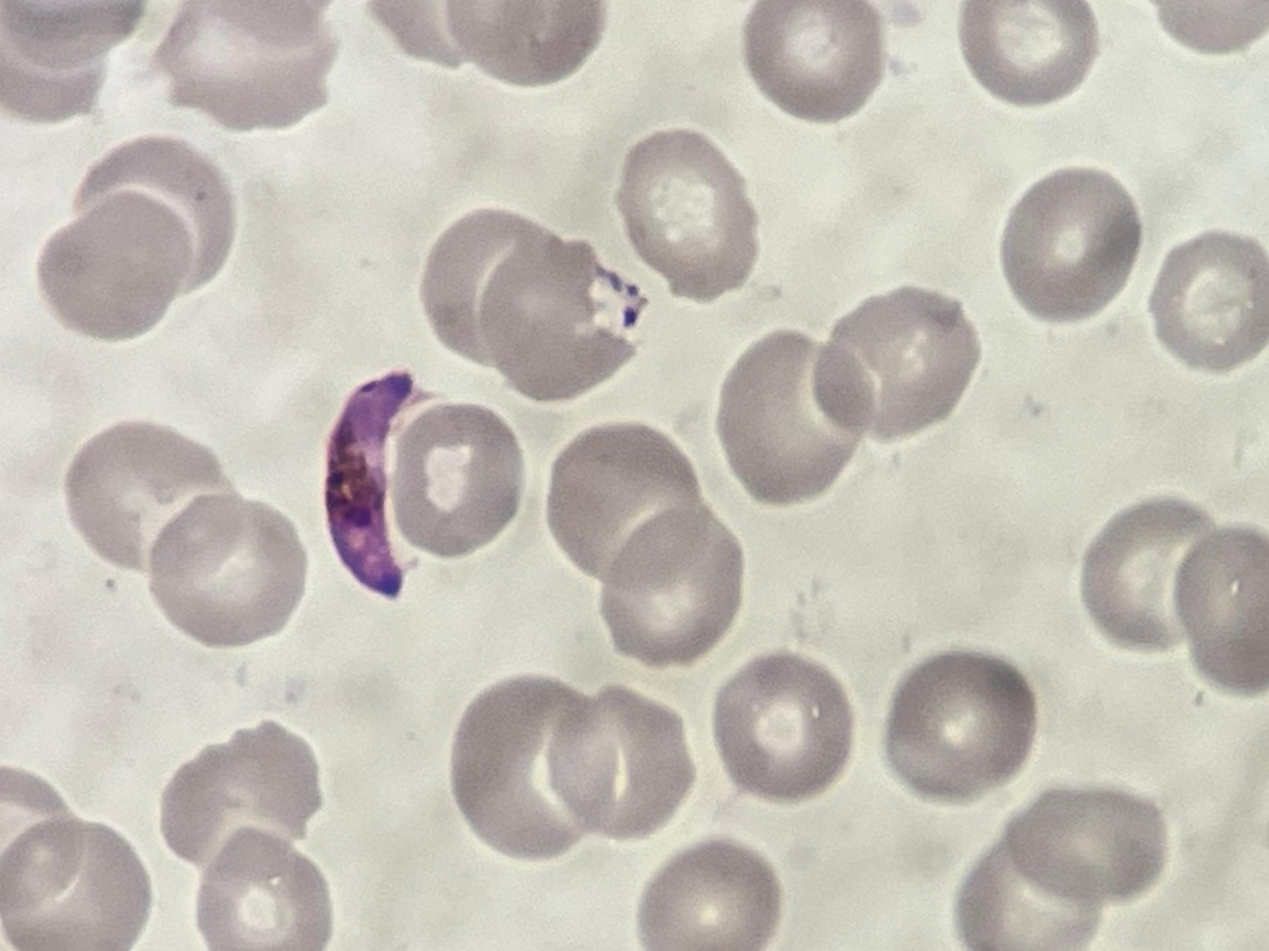Infected: (322, 364, 467, 600), (481, 230, 647, 402)
Uninfected: (458, 679, 617, 861), (64, 418, 241, 580), (719, 329, 872, 505), (545, 422, 705, 589), (69, 133, 233, 295), (813, 288, 979, 441), (616, 129, 759, 302), (155, 717, 321, 865), (150, 491, 307, 647), (36, 190, 195, 343), (598, 508, 744, 670), (159, 0, 336, 131), (547, 688, 699, 840), (1000, 164, 1143, 320), (711, 650, 856, 803), (884, 653, 1034, 800), (421, 209, 564, 363), (1079, 494, 1217, 649), (392, 399, 525, 556), (0, 817, 153, 951), (1010, 783, 1171, 900), (954, 827, 1100, 951), (742, 0, 884, 124), (1150, 230, 1269, 374), (195, 825, 330, 951), (1173, 527, 1269, 701), (638, 838, 781, 951), (958, 0, 1098, 107)
